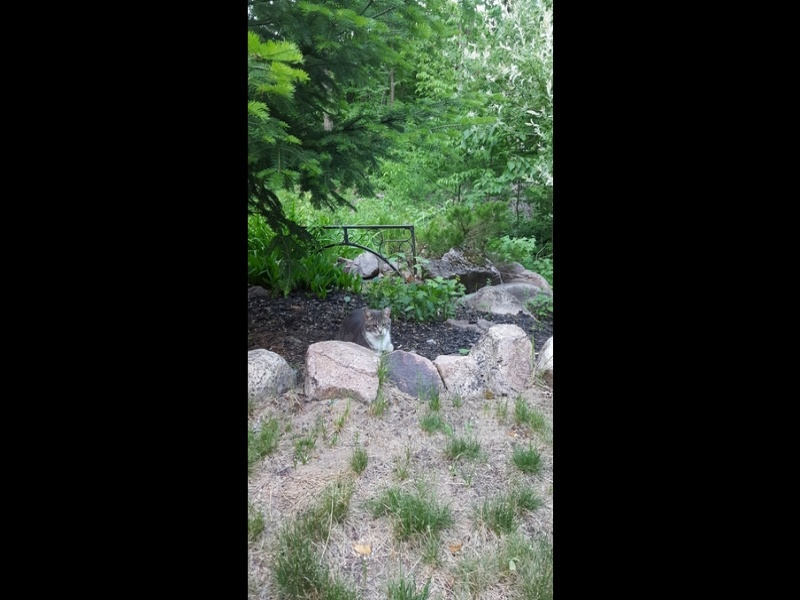cat: (336, 305, 399, 359)
